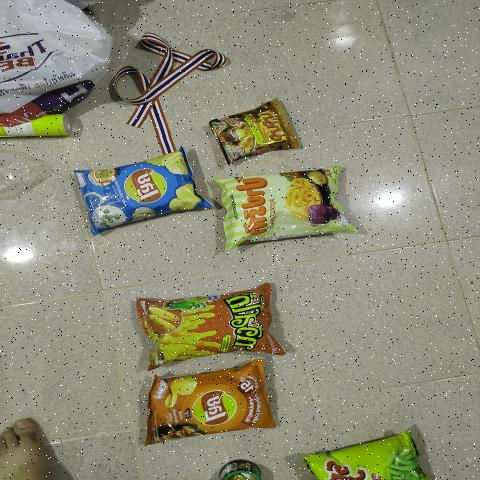lay_blue: (90, 156, 176, 230)
mama: (213, 109, 282, 160)
paprika: (229, 174, 331, 235)
twisco: (151, 293, 257, 357)
